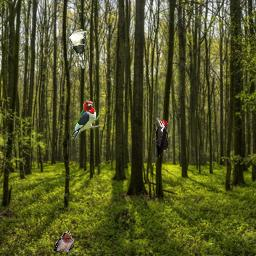Cuckoo: (69, 29, 88, 69)
Swallow: (54, 231, 74, 252)
Woodpecker: (70, 100, 100, 140), (153, 117, 168, 157)
